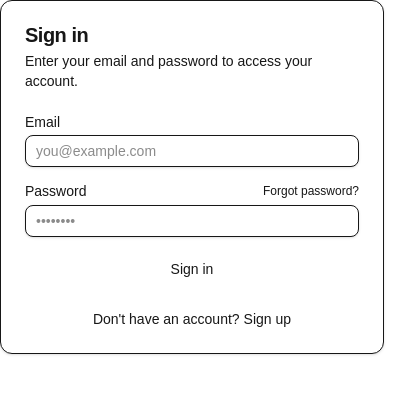
Scenario: SignInFormView › validation › shows password required error when password is empty on submit
The image size is (401, 394).
Type "test@example.com" into the field with placeholder "you@example.com" at x=192, y=151, box [25,135,359,167]
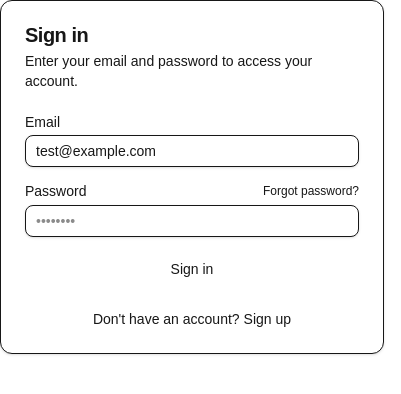
Submit the form with placeholder "you@example.com", box [25,115,359,285]
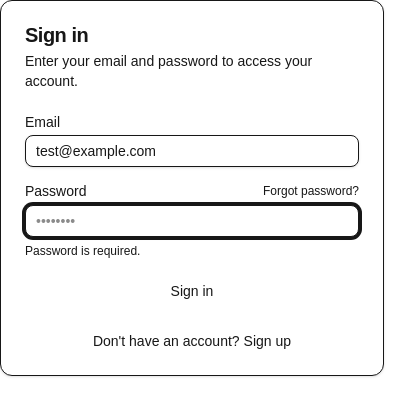
Now the text "Password is required." is shown, box [25,244,140,258]
